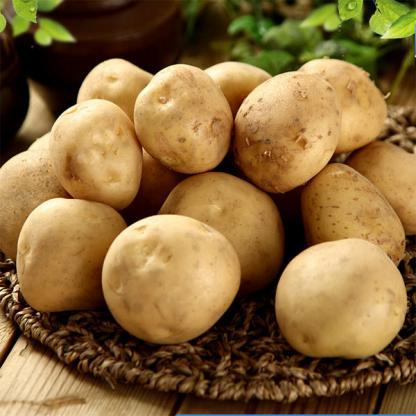potato: (108, 203, 245, 348), (228, 56, 356, 195), (280, 231, 407, 364), (156, 166, 285, 292), (10, 194, 140, 319), (138, 58, 247, 186), (47, 86, 150, 217), (306, 164, 410, 266)
